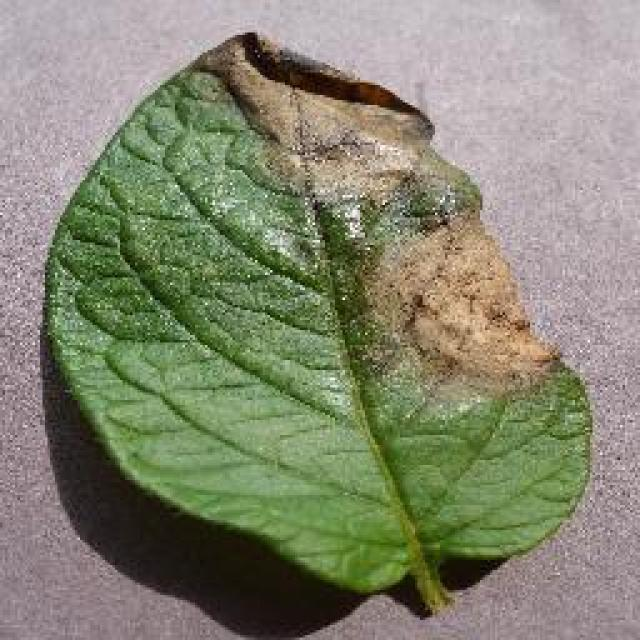Potato: (40, 28, 592, 618)
